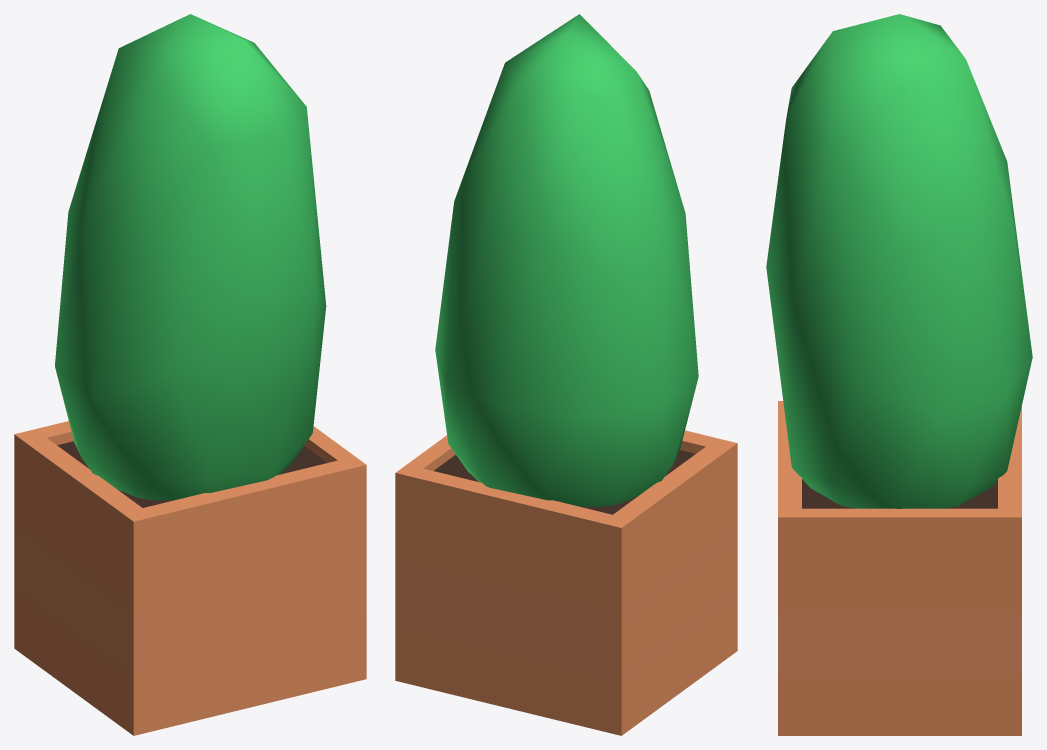
File: panshu.FBX
The picture shows the model from 3 angles, left to right: view 1: azimuth 30°, elevation 25°; view 2: azimuth 150°, elevation 25°; view 3: azimuth 270°, elevation 25°; orthographic projection. The views are drawn at different scales.
Visible parts, largest first — view 1: panshu; view 2: panshu; view 3: panshu.
Part boxes in pixels (<box>): panshu: <box>14,14,366,735</box>; panshu: <box>395,14,737,735</box>; panshu: <box>766,14,1032,735</box>.
Size of the model in its own units: 38.46 by 103 by 37.3.
